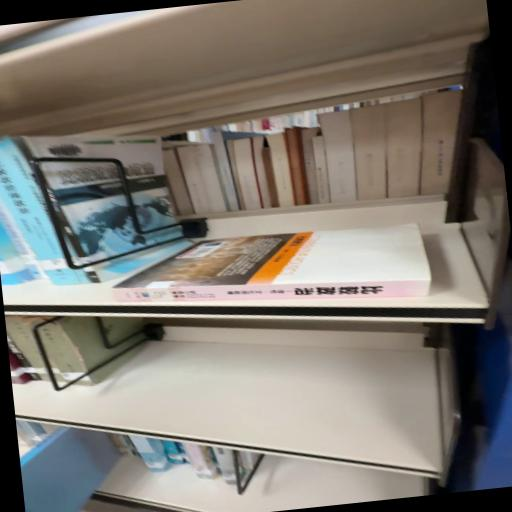flat: (113, 224, 431, 302)
